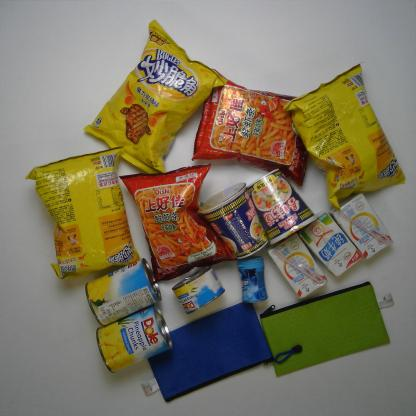Canned Food: (95, 305, 172, 374), (86, 258, 162, 326), (173, 267, 225, 314)
Gum: (237, 257, 269, 303)
Instant Noodles: (246, 167, 317, 248), (197, 183, 268, 262)
Milk: (298, 212, 363, 276), (333, 194, 394, 260), (268, 234, 328, 301)
Puffed Food: (85, 19, 223, 179), (283, 62, 406, 210), (25, 146, 142, 279), (192, 69, 318, 188), (118, 164, 239, 284)
Stationery: (138, 303, 306, 404), (258, 282, 397, 377)
